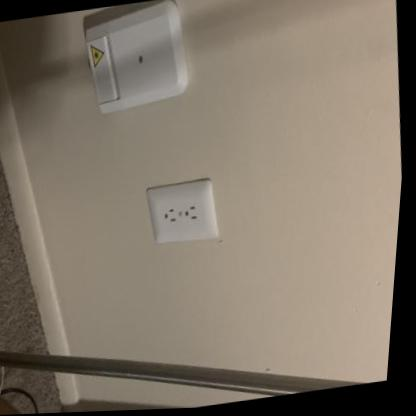OUTLET: (141, 176, 224, 247)
